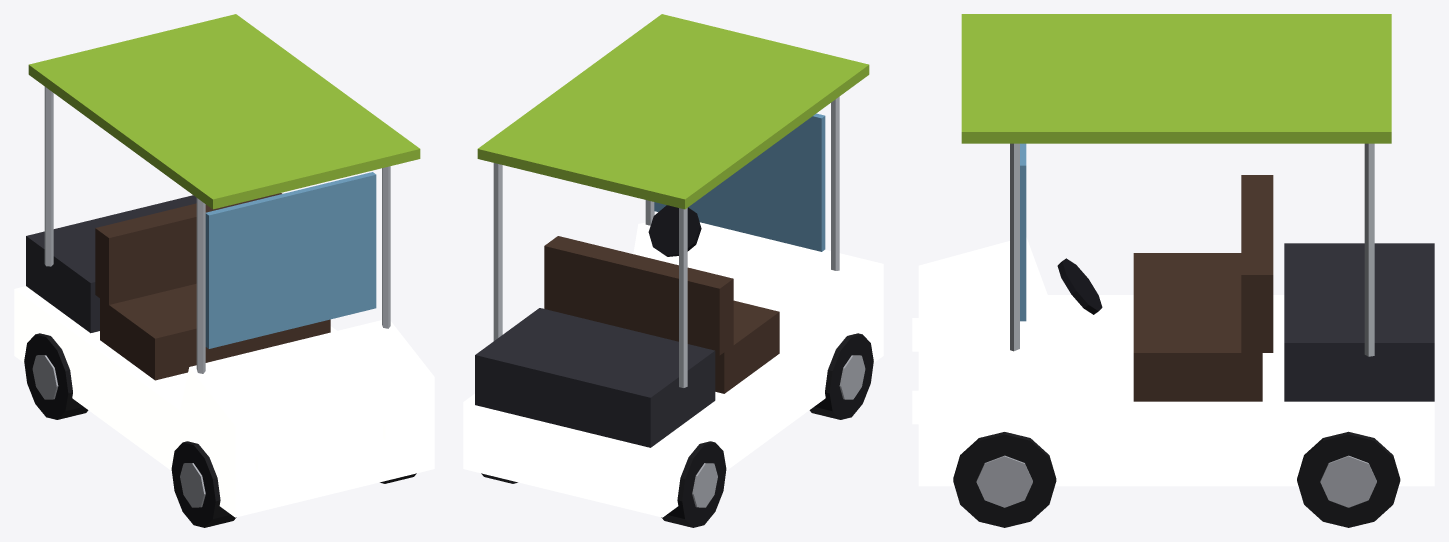
File: golf_cart.glb
3 views of the same model, side by side, from view 1: azimuth 30°, elevation 25°; view 2: azimuth 150°, elevation 25°; view 3: azimuth 270°, elevation 25° (orthographic). The views are drawn at different scales.
Visible parts, largest first — view 1: golf_cart; view 2: golf_cart; view 3: golf_cart.
Part boxes in pixels (x1,y1,x2,y2): golf_cart: (14,14,434,527); golf_cart: (463,14,883,527); golf_cart: (912,14,1434,527).
Size of the model in its own units: 1.33 by 2.03 by 2.43.
